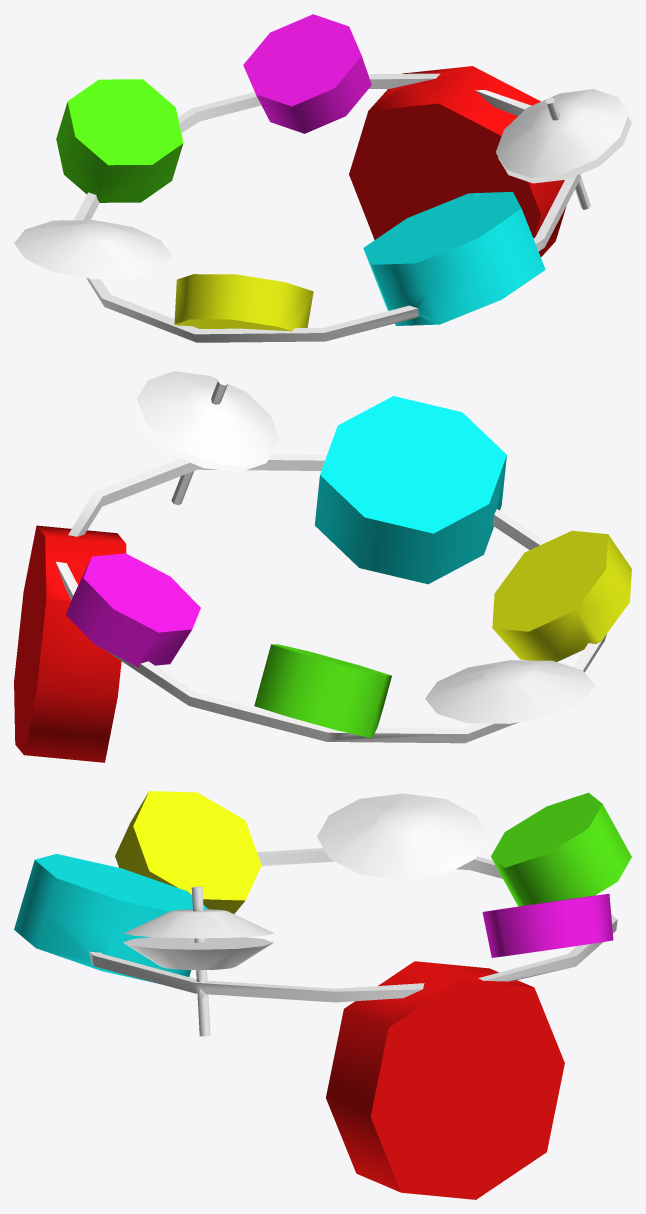
File: drums.fbx
3 renders of one model, top to bottom at view 1: azimuth 30°, elevation 25°; view 2: azimuth 150°, elevation 25°; view 3: azimuth 270°, elevation 25°, orthographic. The views are drawn at different scales.
Parts seen in each view (by area): view 1: unamed; view 2: unamed; view 3: unamed.
Part boxes in pixels (bbox=[...]): unamed: bbox=[14, 14, 631, 342]; unamed: bbox=[14, 371, 631, 762]; unamed: bbox=[14, 791, 631, 1199].
Bounding box in the file's own units: 0.9642 × 0.4624 × 0.8927.
Materials: 1 (1 with a texture image).
